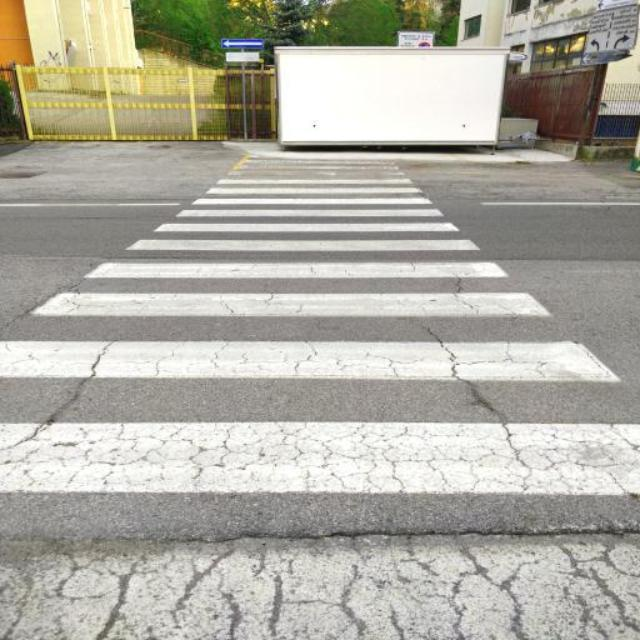sidewalk: (6, 162, 638, 498)
